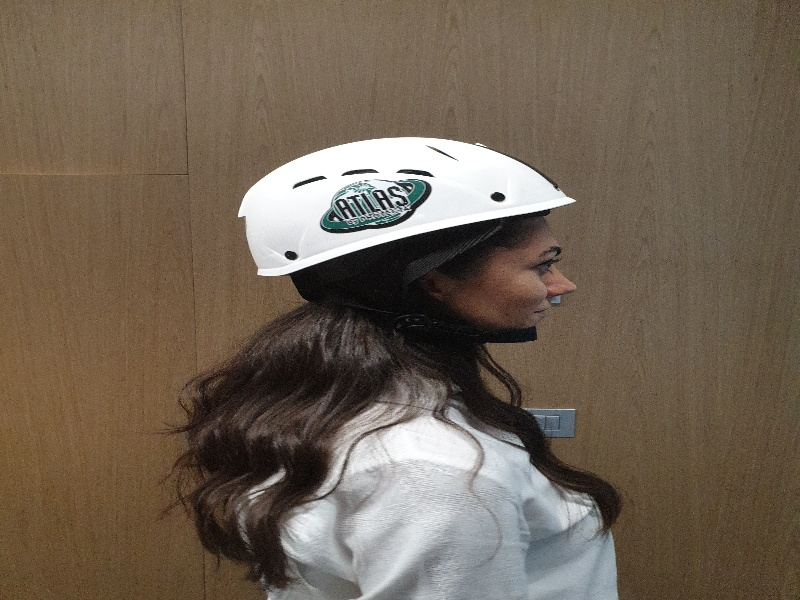Baret: (239, 134, 582, 285)
